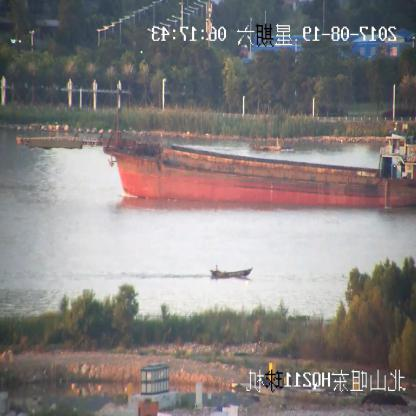Bulk Carrier: (17, 86, 416, 209)
